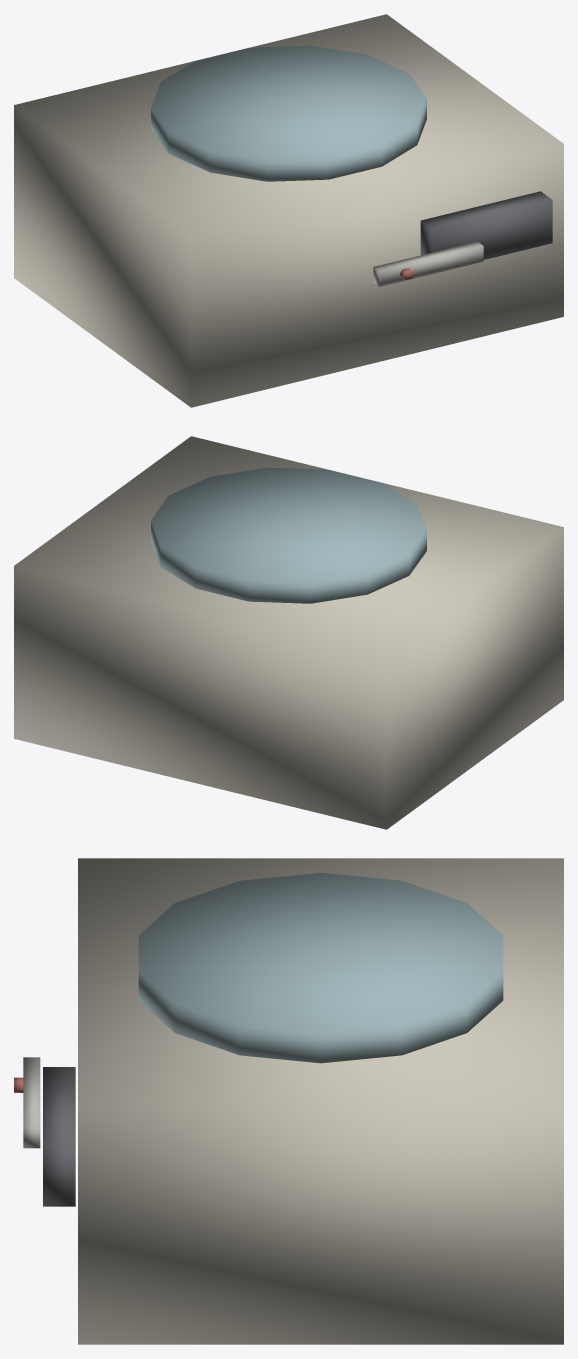
The model's file is centrifuge_bench_unit__squat.glb.
The picture shows the model from 3 angles, top to bottom: view 1: azimuth 30°, elevation 25°; view 2: azimuth 150°, elevation 25°; view 3: azimuth 270°, elevation 25°; orthographic projection. The views are drawn at different scales.
Parts seen in each view (by area): view 1: world; view 2: world; view 3: world.
Boxes of the visible parts, box(x1,y1,x2,y2) form: world: box(14, 14, 563, 407); world: box(14, 436, 563, 829); world: box(14, 858, 563, 1344).
Bounding box in the file's own units: 0.682 × 0.3402 × 0.6356.
